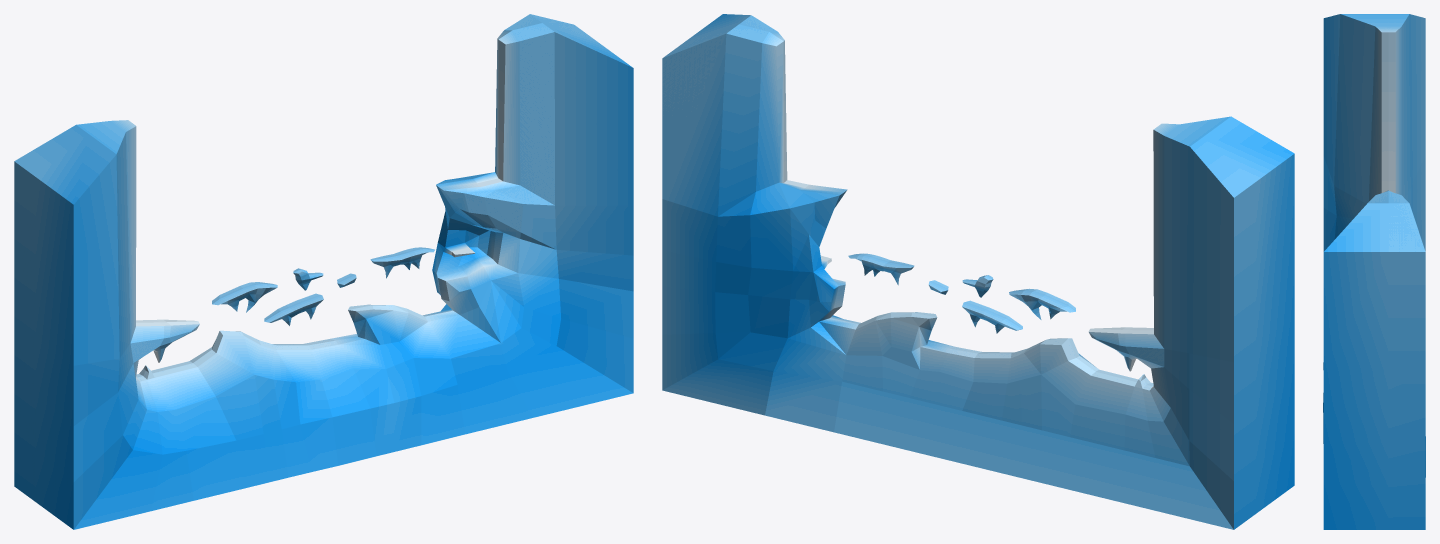
Rendered from Level Boundary.fbx.
The picture shows the model from 3 angles, left to right: view 1: azimuth 30°, elevation 25°; view 2: azimuth 150°, elevation 25°; view 3: azimuth 270°, elevation 25°; orthographic projection. The views are drawn at different scales.
Visible parts, largest first — view 1: LevelBoundary; view 2: LevelBoundary; view 3: LevelBoundary.
Boxes of the visible parts, x1,y1,x2,y2 form: LevelBoundary: [14, 14, 633, 529]; LevelBoundary: [662, 14, 1294, 529]; LevelBoundary: [1323, 14, 1425, 529].
Bounding box in the file's own units: 179 × 109 × 33.37.
